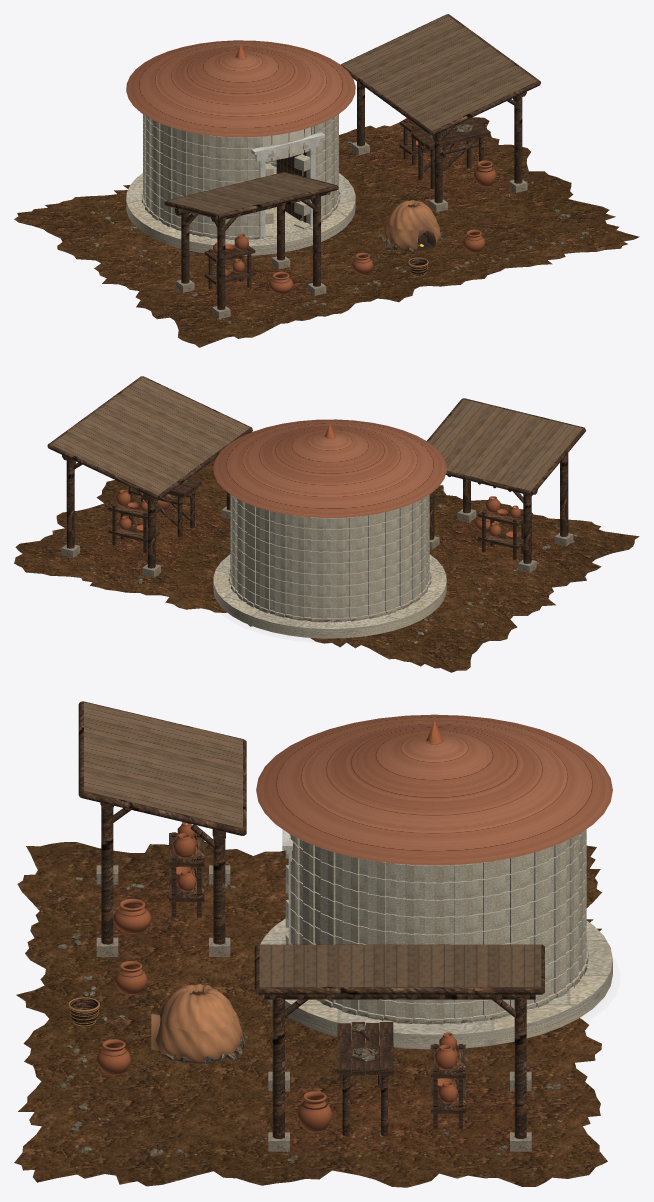
File: pottery_kiln@2.glb
The picture shows the model from 3 angles, top to bottom: view 1: azimuth 30°, elevation 25°; view 2: azimuth 150°, elevation 25°; view 3: azimuth 270°, elevation 25°; orthographic projection. The views are drawn at different scales.
Visible parts, largest first — view 1: part_1, part_18, part_5, part_10, part_8, part_9, part_11, part_15, part_4, part_6, part_7, part_2; view 2: part_1, part_5, part_10, part_18, part_8, part_9, part_4, part_11, part_6, part_2; view 3: part_1, part_18, part_5, part_10, part_8, part_9, part_11, part_15, part_4, part_6, part_2, part_14.
Part boxes in pixels (box(x1,y1,x2,y2)): part_1: box(14, 117, 639, 347); part_18: box(126, 40, 355, 137); part_5: box(126, 114, 355, 255); part_10: box(167, 14, 538, 214); part_8: box(164, 14, 540, 309); part_9: box(186, 139, 513, 315); part_11: box(213, 119, 496, 294); part_15: box(272, 199, 482, 283); part_4: box(141, 142, 527, 318); part_6: box(151, 120, 332, 226); part_7: box(251, 132, 325, 238); part_2: box(89, 131, 589, 327); part_1: box(14, 459, 639, 672); part_5: box(213, 494, 446, 638); part_10: box(50, 377, 582, 494); part_18: box(213, 419, 446, 517); part_8: box(47, 376, 585, 568); part_9: box(75, 500, 562, 573); part_4: box(61, 496, 573, 622); part_11: box(116, 489, 520, 540); part_6: box(236, 503, 421, 608); part_2: box(89, 496, 577, 647); part_1: box(14, 841, 607, 1187); part_18: box(256, 714, 612, 865); part_5: box(260, 829, 612, 1049); part_10: box(84, 702, 541, 987); part_8: box(78, 701, 544, 1139); part_9: box(113, 880, 514, 1151); part_11: box(96, 822, 459, 1132); part_15: box(101, 907, 242, 1062); part_4: box(96, 865, 588, 1151); part_6: box(288, 834, 579, 1003); part_2: box(47, 875, 571, 1162); part_14: box(167, 1024, 378, 1064).
Bounding box in the file's own units: 9.13 × 3.19 × 6.95.
20 materials, 14 textured.
